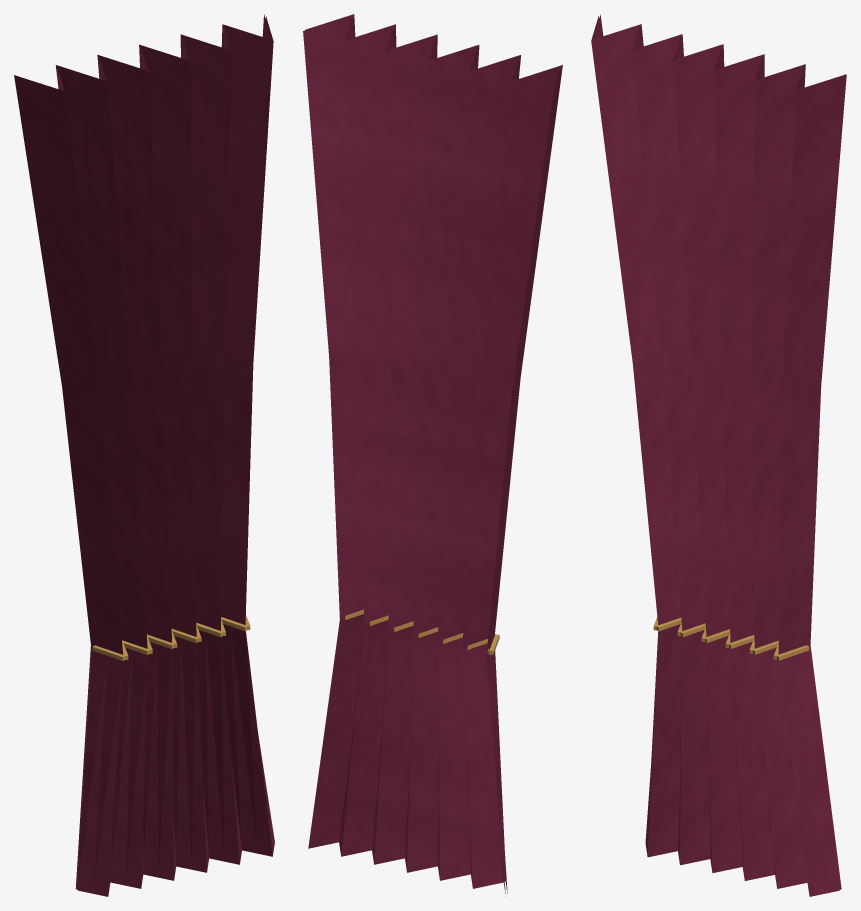
File: SM_Theater_Curtain_Side.fbx
The picture shows the model from 3 angles, left to right: view 1: azimuth 30°, elevation 25°; view 2: azimuth 150°, elevation 25°; view 3: azimuth 330°, elevation 25°; orthographic projection.
Parts seen in each view (by area): view 1: SM_Theater_Curtain_Side_LOD0; view 2: SM_Theater_Curtain_Side_LOD0; view 3: SM_Theater_Curtain_Side_LOD0.
Boxes of the visible parts, x1,y1,x2,y2 form: SM_Theater_Curtain_Side_LOD0: (14,14,274,896); SM_Theater_Curtain_Side_LOD0: (303,14,562,896); SM_Theater_Curtain_Side_LOD0: (591,14,846,896).
Size of what is drawn, in the model's own units: 2.85 by 8.9 by 0.596.
